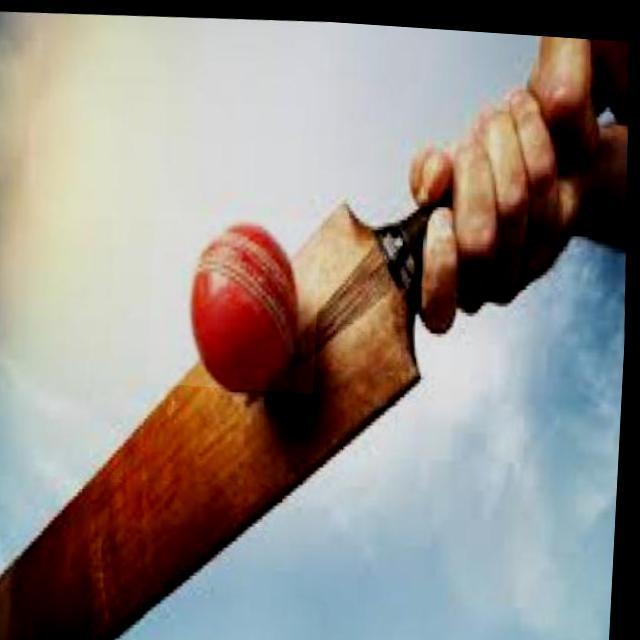Red_Ball: (168, 217, 314, 396)
